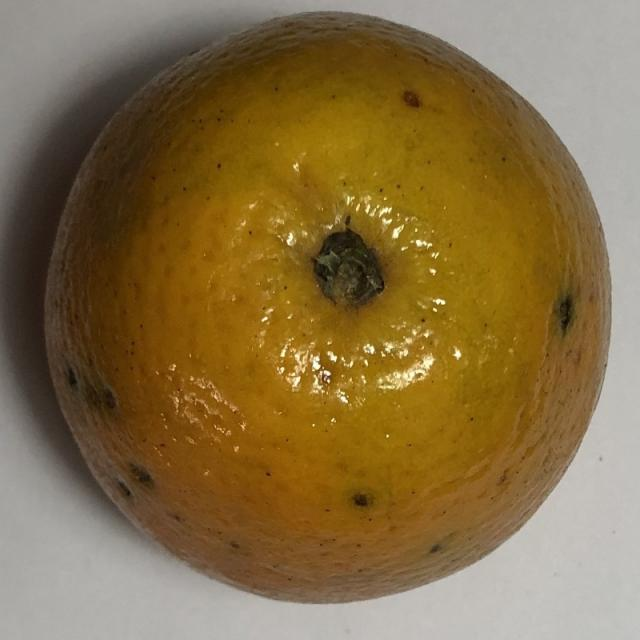blackspot: (24, 0, 632, 618)
